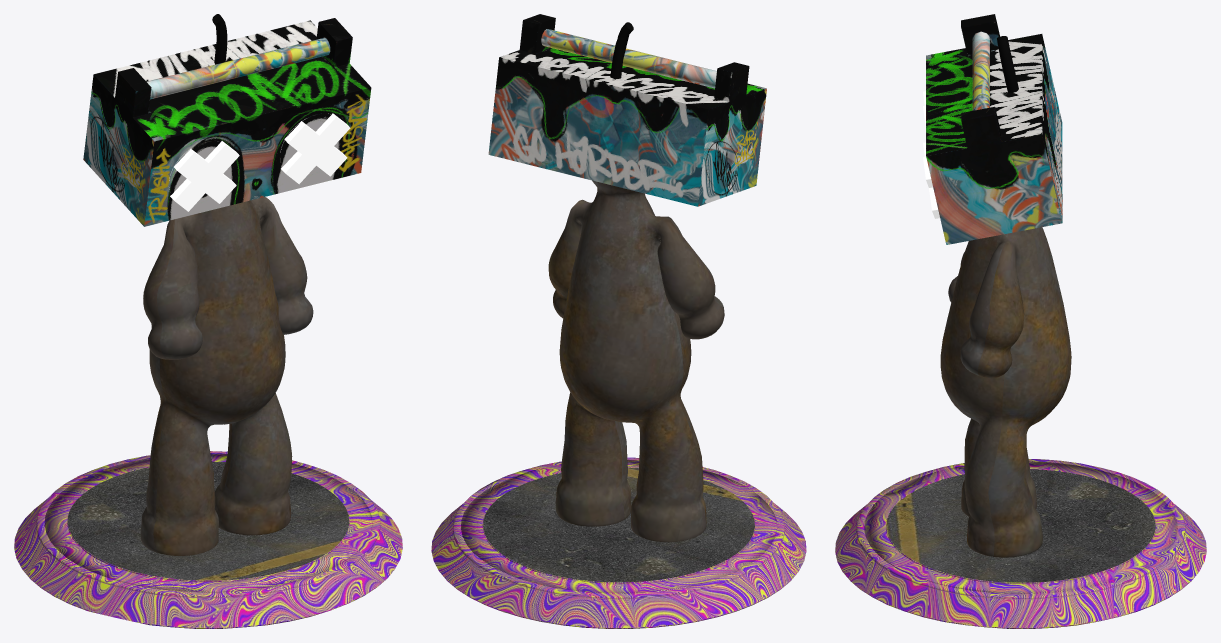
The picture shows the model from 3 angles, left to right: view 1: azimuth 30°, elevation 25°; view 2: azimuth 150°, elevation 25°; view 3: azimuth 270°, elevation 25°; orthographic projection. The views are drawn at different scales.
Parts seen in each view (by area): view 1: BBody; view 2: BBody; view 3: BBody.
Part boxes in pixels (x1,y1,x2,y2): BBody: (14, 14, 402, 628); BBody: (431, 14, 806, 628); BBody: (835, 14, 1206, 628).
Size of the model in its own units: 1.45 by 2.22 by 1.45.
6 materials, 4 textured.
